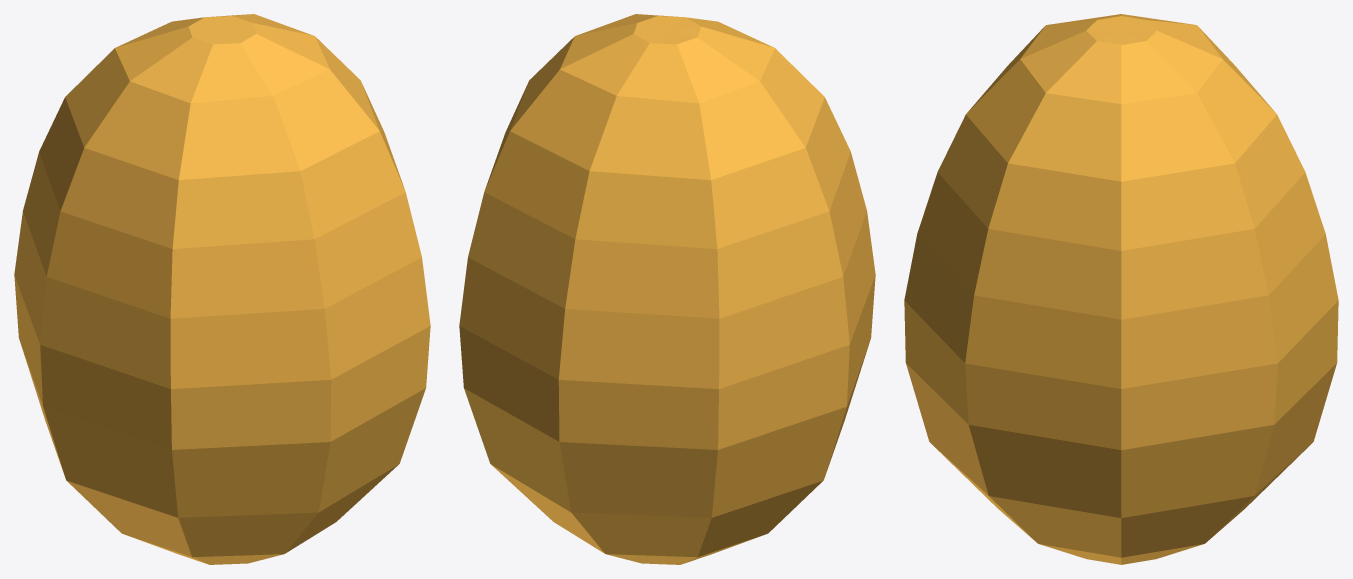
File: Huevo.fbx
3 renders of one model, left to right at view 1: azimuth 30°, elevation 25°; view 2: azimuth 150°, elevation 25°; view 3: azimuth 270°, elevation 25°, orthographic.
Visible parts, largest first — view 1: pCube1; view 2: pCube1; view 3: pCube1.
Part boxes in pixels (x1,y1,x2,y2): pCube1: (14,14,430,564); pCube1: (459,14,875,564); pCube1: (904,14,1338,564).
Size of the model in its own units: 1.01 by 1.36 by 1.04.
